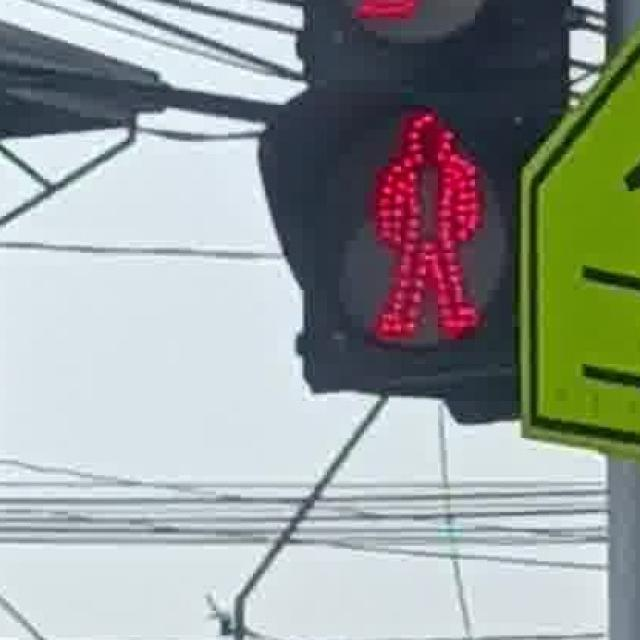red_light: (350, 85, 497, 347)
